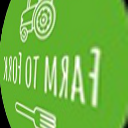Fork: (9, 99, 70, 128)
